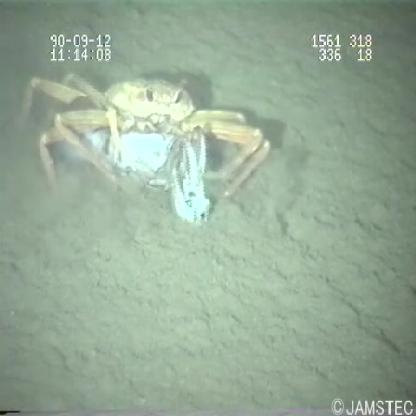Bio: (15, 69, 271, 236)
